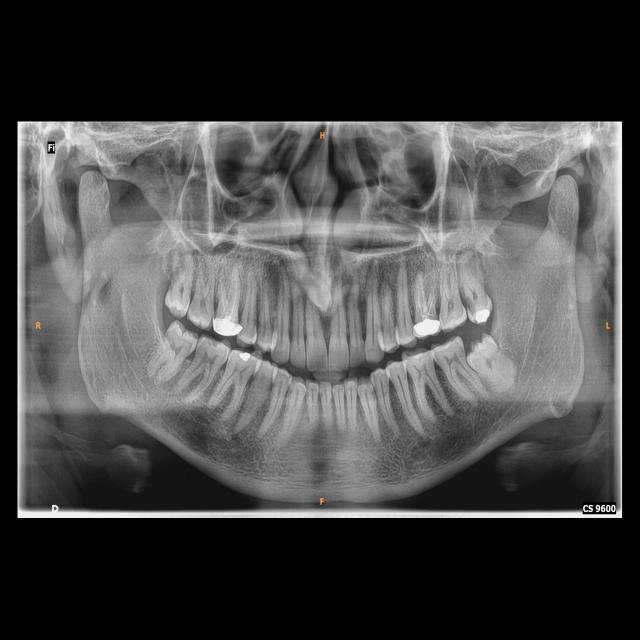dolgu: (468, 306, 494, 328), (232, 351, 255, 368)
kanal-tedavisi: (220, 277, 240, 317), (414, 282, 435, 318)
kaplama: (212, 313, 243, 339), (412, 314, 442, 338)
